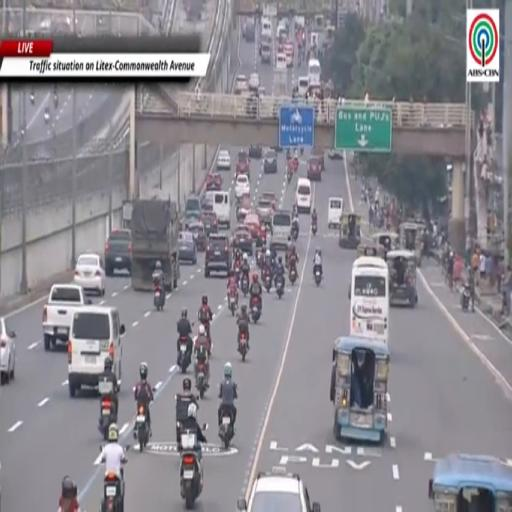bus: (350, 256, 389, 343), (308, 59, 320, 87)
car: (237, 468, 320, 511), (73, 253, 106, 296), (204, 233, 232, 277), (105, 230, 131, 276), (0, 316, 16, 383), (232, 226, 253, 254), (179, 232, 196, 264), (189, 221, 206, 251), (181, 209, 202, 230), (256, 198, 273, 223), (201, 212, 218, 236), (244, 213, 260, 238), (236, 149, 250, 177), (235, 174, 250, 199), (185, 195, 201, 218), (307, 155, 321, 181), (237, 197, 251, 221), (246, 93, 258, 119), (264, 149, 277, 173), (261, 191, 277, 210), (259, 36, 271, 61), (234, 74, 248, 95), (206, 173, 223, 190), (312, 147, 324, 171), (216, 150, 230, 170), (243, 19, 255, 42), (248, 144, 262, 157), (249, 73, 259, 90), (328, 149, 343, 159), (179, 231, 193, 241), (202, 202, 213, 212), (272, 147, 283, 152)
jeepney: (330, 336, 389, 442), (429, 454, 511, 511), (387, 250, 417, 307), (399, 222, 425, 266), (339, 214, 360, 249), (372, 232, 399, 251), (357, 244, 385, 259)
motorcycle: (180, 430, 202, 509), (99, 379, 116, 440), (101, 472, 124, 511), (99, 395, 116, 440), (134, 405, 149, 452), (219, 409, 234, 450), (196, 360, 208, 399), (179, 336, 190, 373), (201, 323, 212, 356), (238, 332, 248, 362), (154, 285, 165, 311), (251, 296, 260, 324), (461, 286, 470, 312), (229, 294, 237, 315), (276, 277, 284, 298), (264, 271, 272, 292), (241, 275, 248, 297), (314, 269, 322, 286), (289, 265, 296, 284), (256, 249, 263, 267), (291, 226, 298, 242), (234, 264, 240, 282), (287, 165, 293, 183), (292, 157, 298, 172), (312, 221, 317, 235), (286, 151, 290, 162), (300, 147, 303, 155)
truck: (131, 198, 179, 292), (42, 284, 91, 350)
